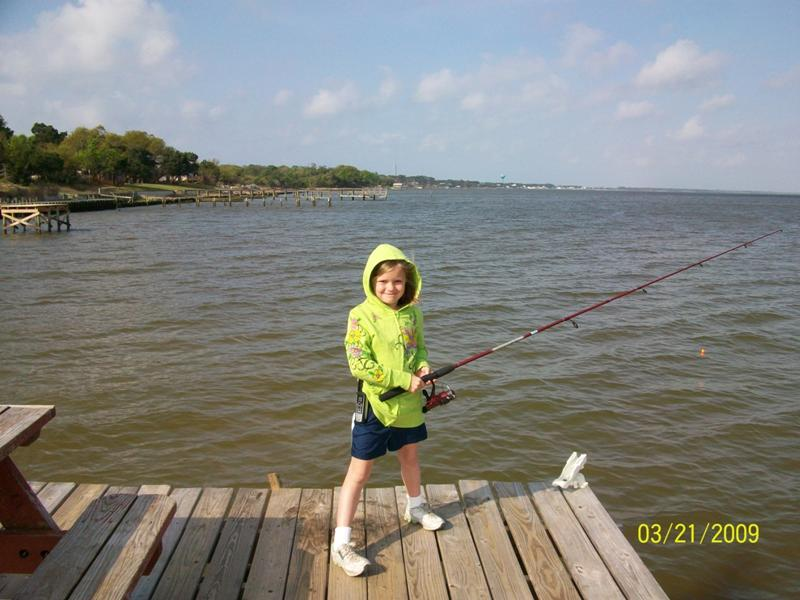person: (332, 243, 447, 578)
